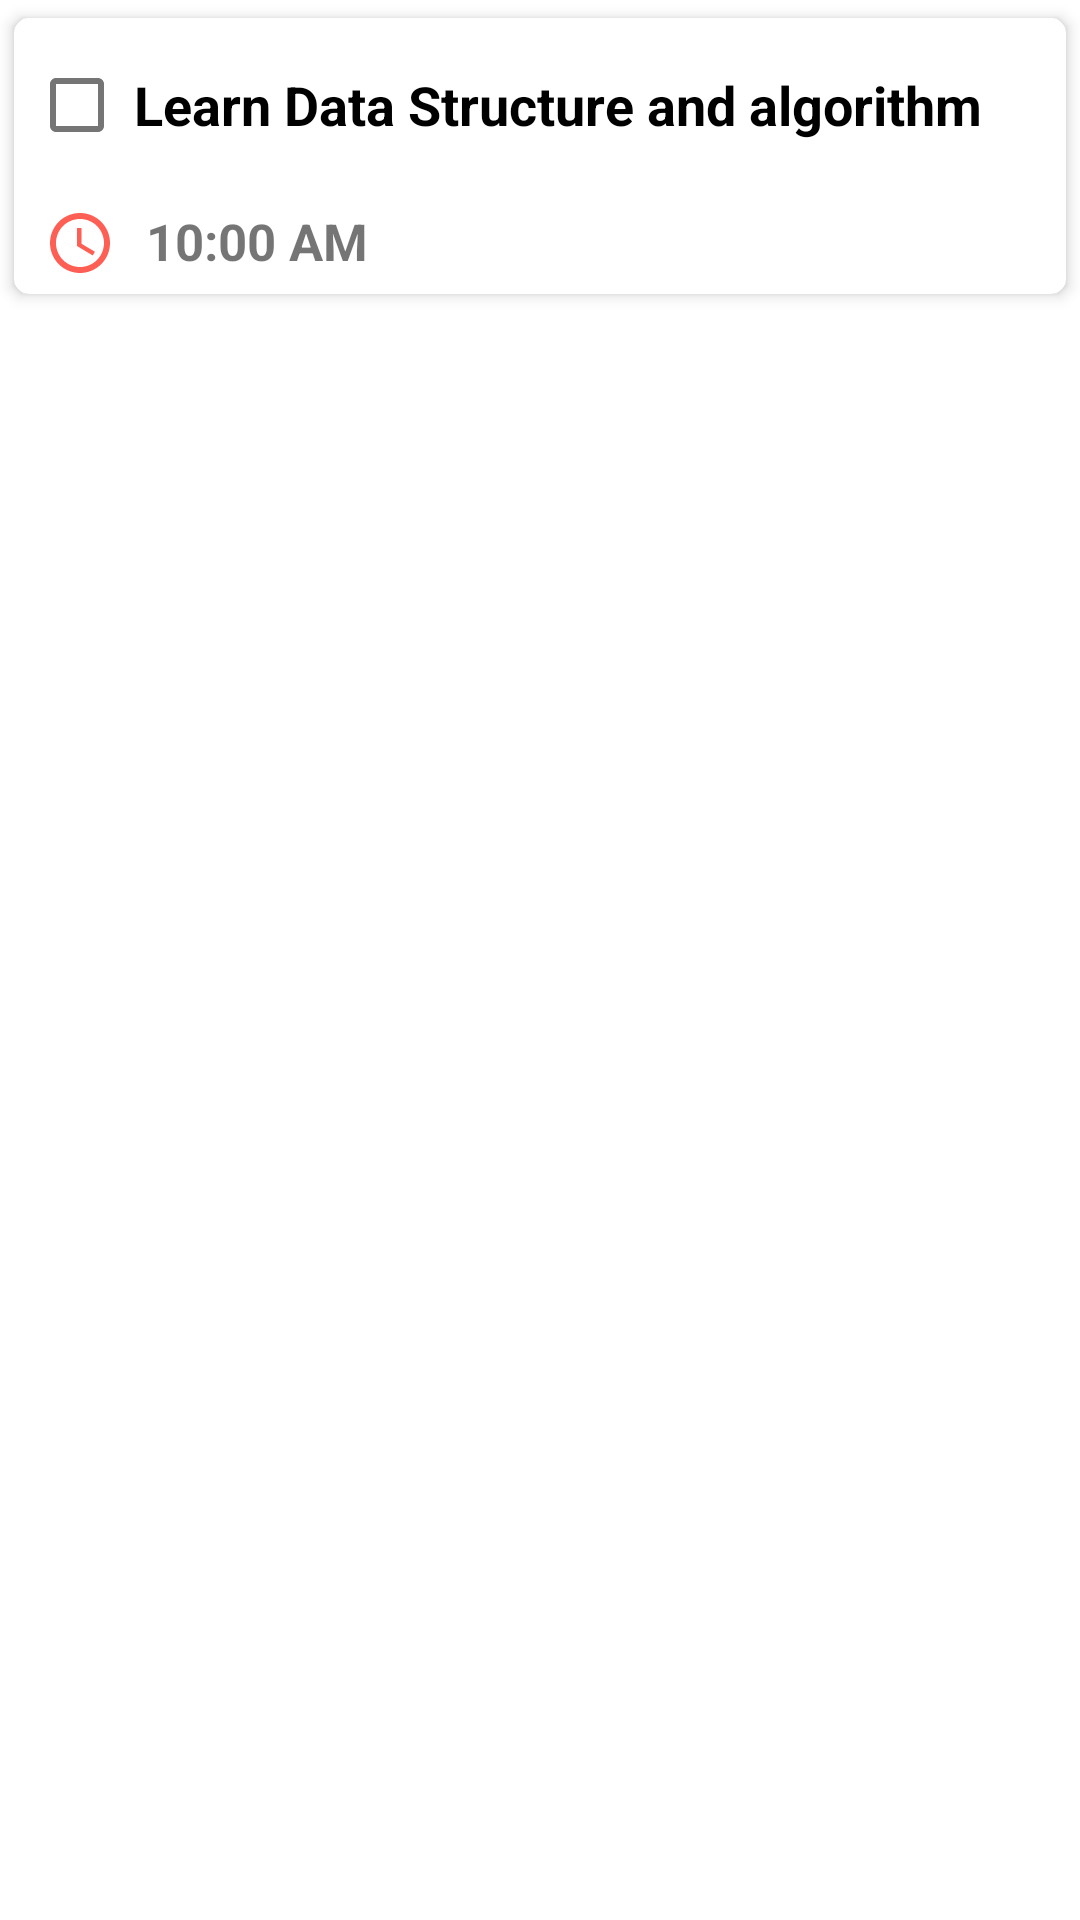

Screen size 1080w x 1920h. Icon name, then its center in pixels as (x,y):
access time: (80,243)
